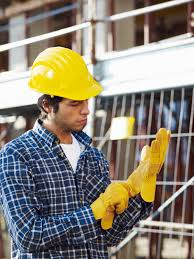Person_wearing_helmet: (27, 41, 99, 105)
